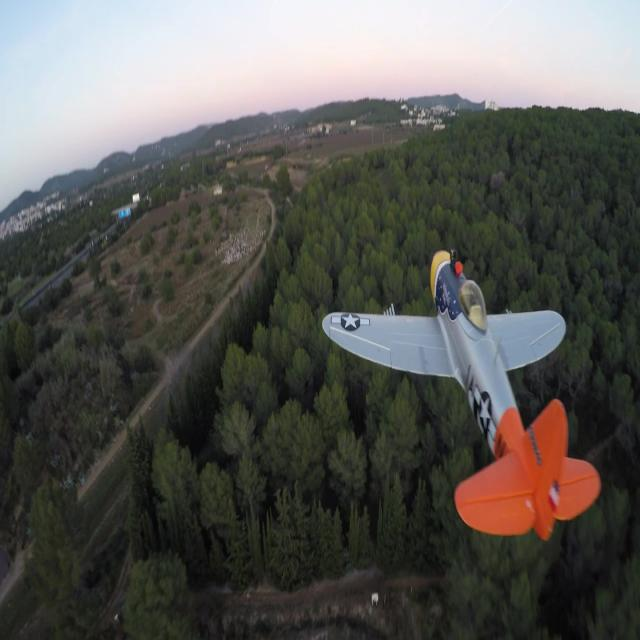iha: (322, 234, 602, 538)
